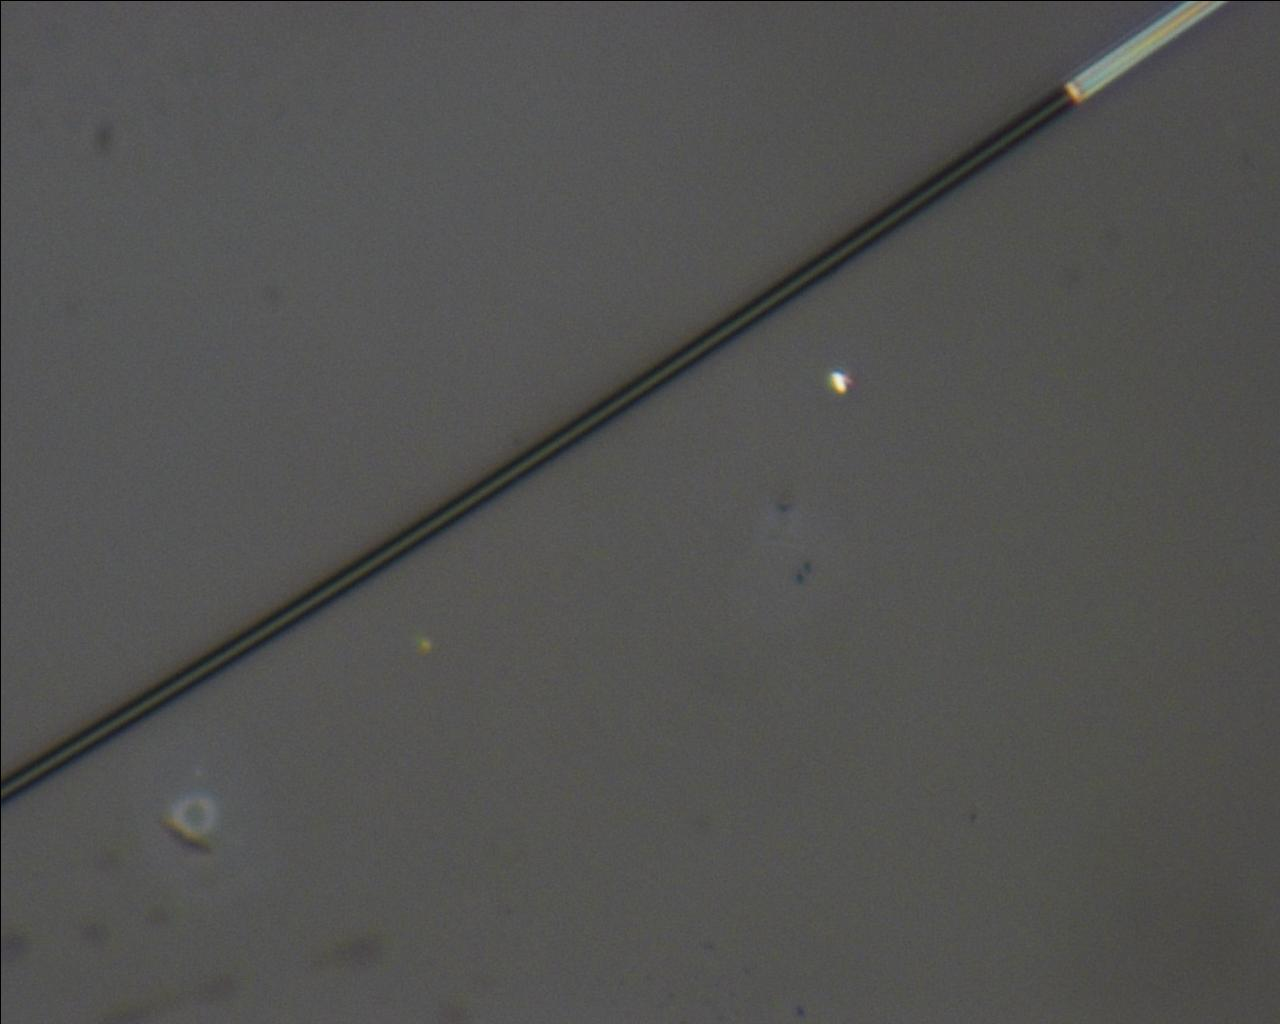fiber: (0, 0, 1229, 810)
